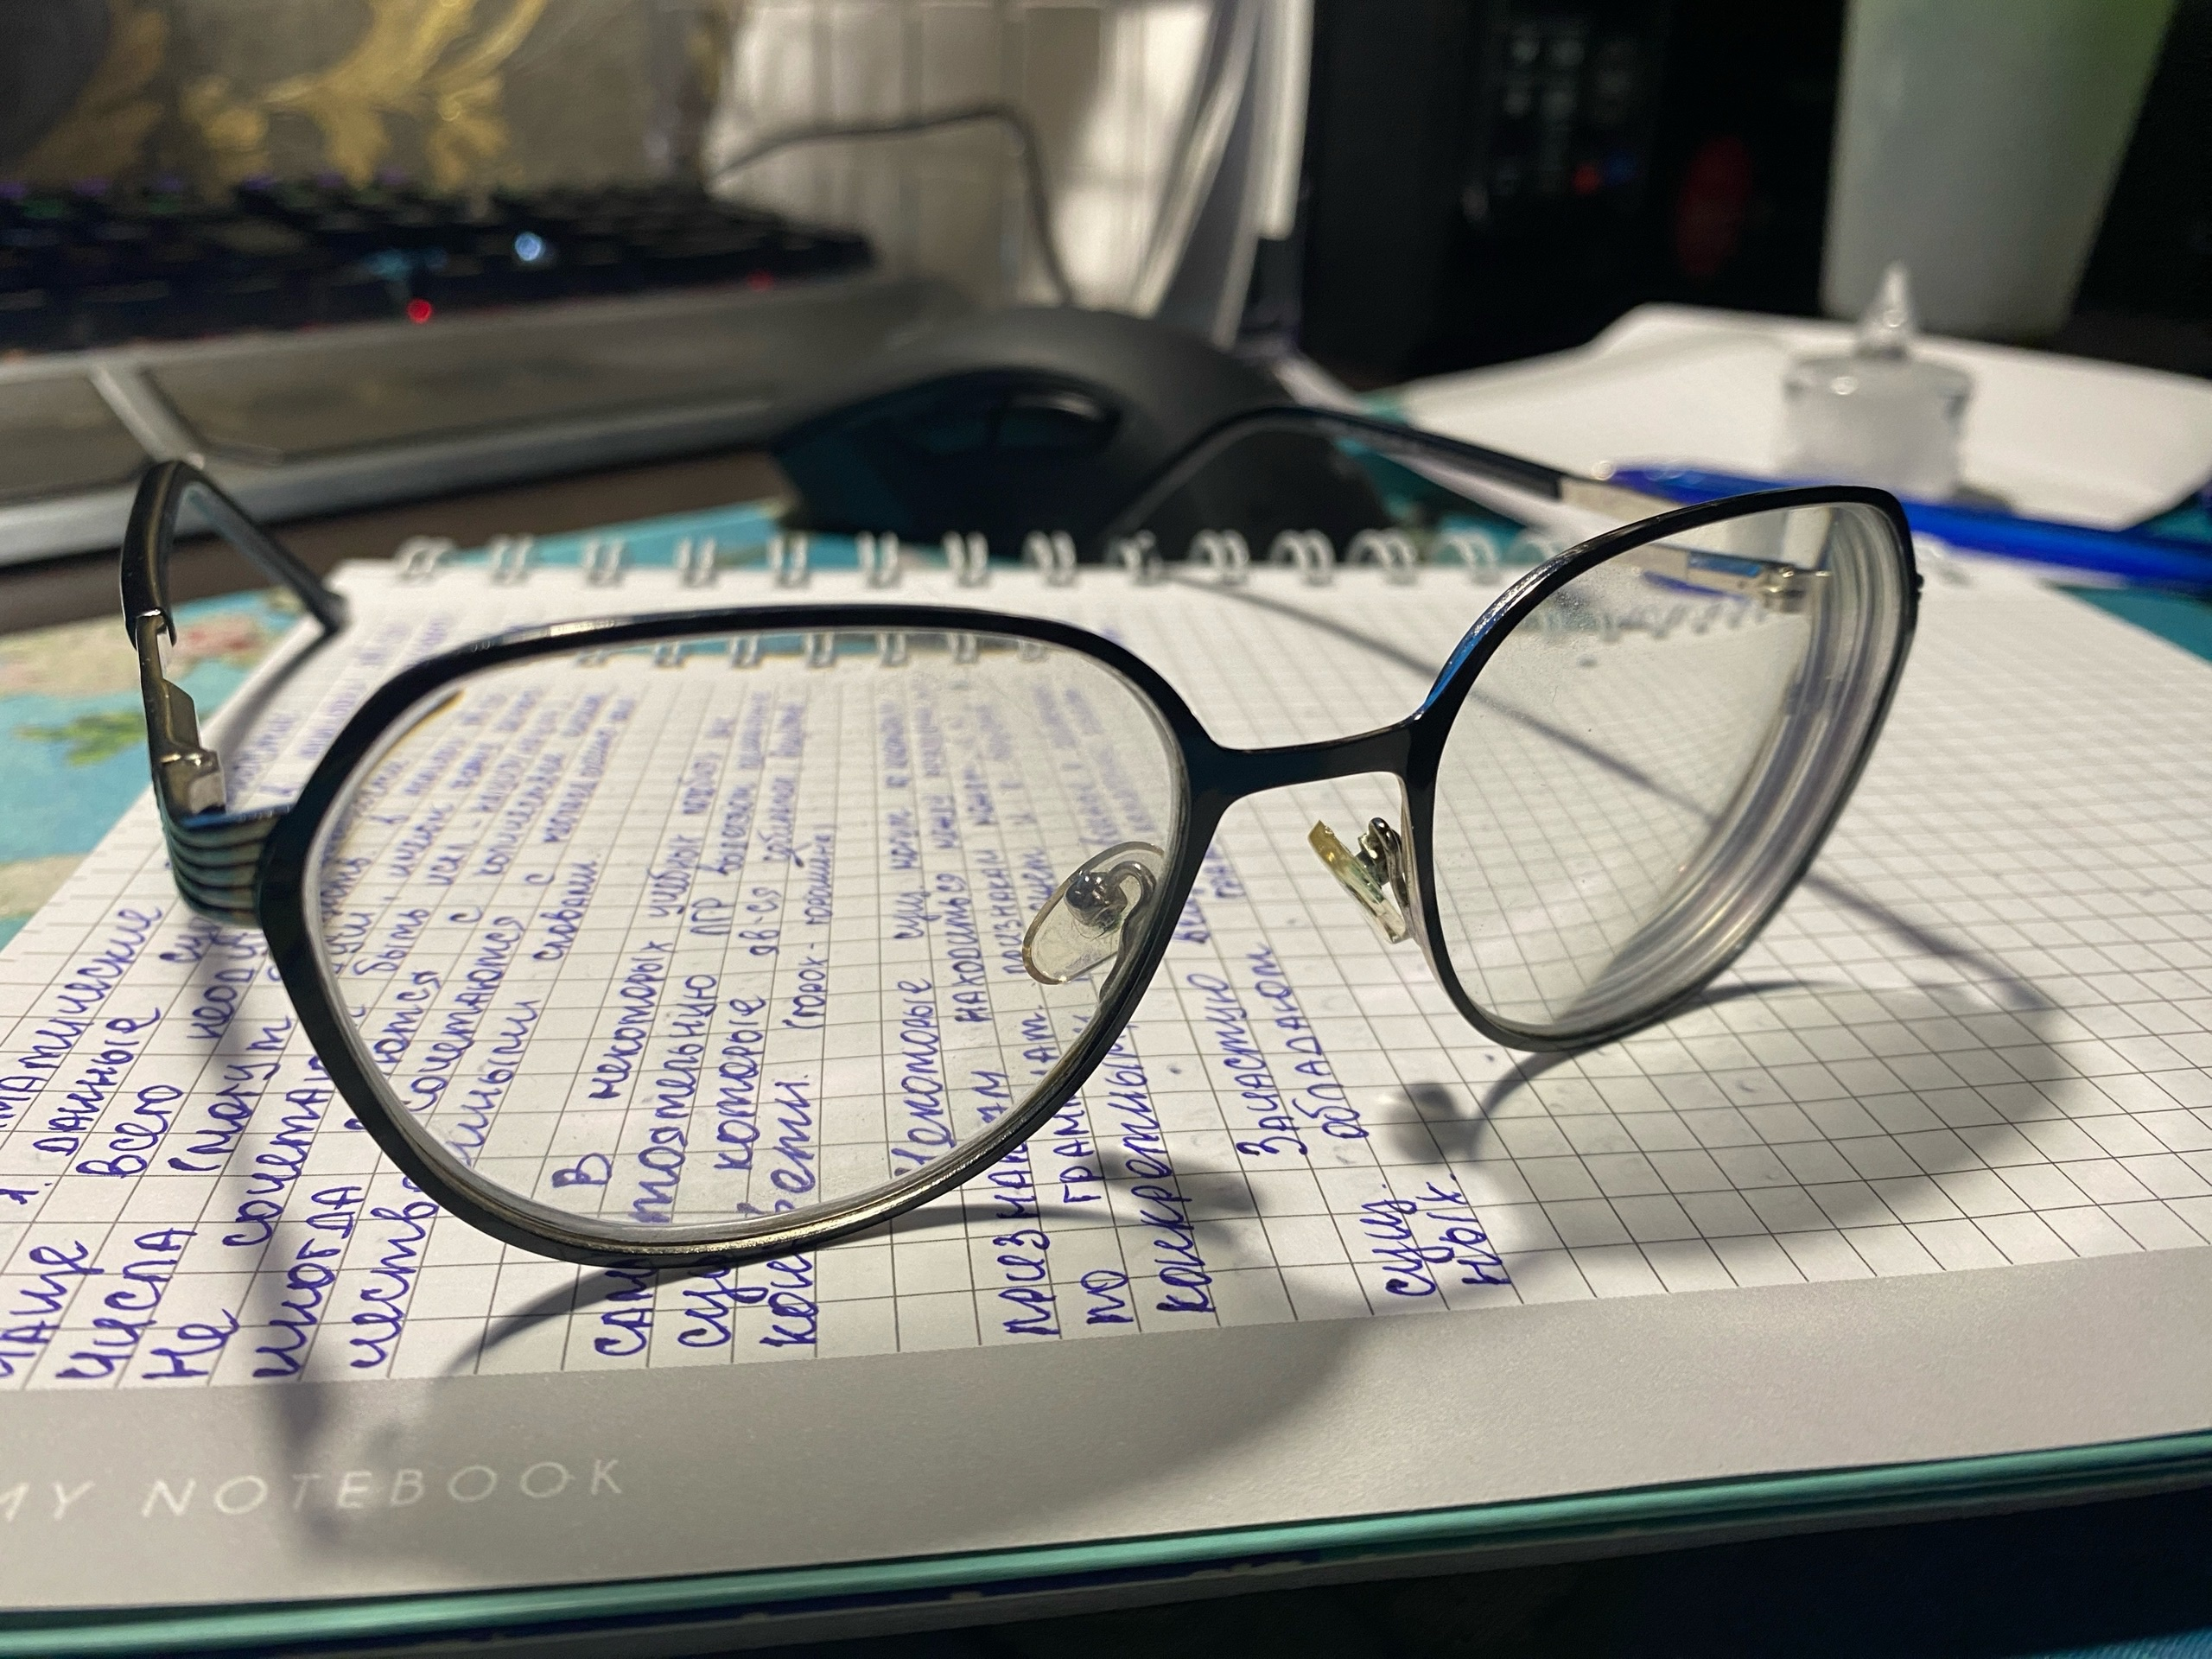glasses: (120, 410, 1918, 1265)
